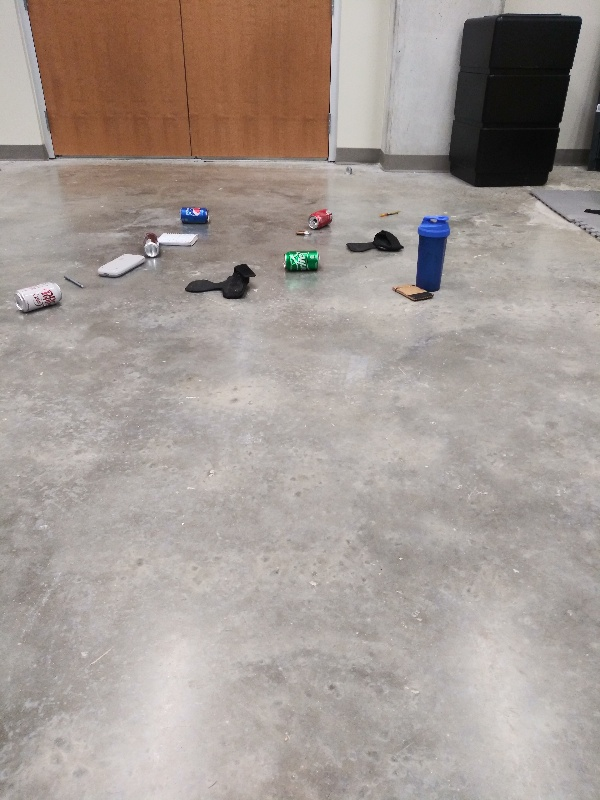can: (12, 280, 63, 316), (279, 249, 324, 273), (307, 207, 335, 232), (179, 204, 213, 224), (141, 230, 163, 259)
